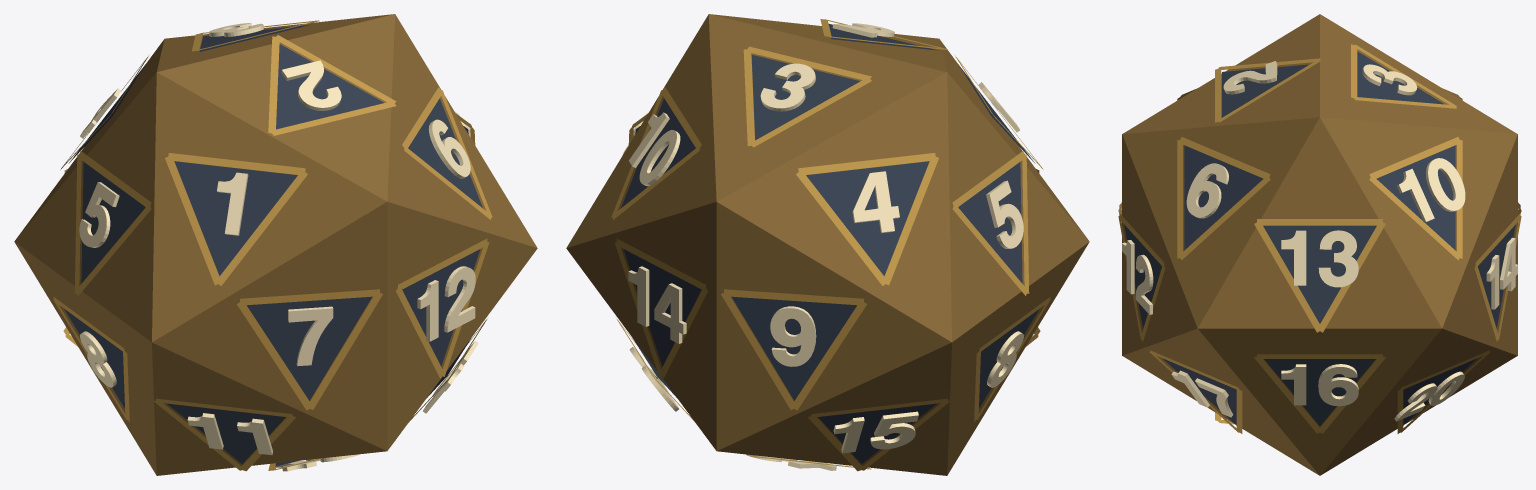
3 views of the same model, side by side, from view 1: azimuth 30°, elevation 25°; view 2: azimuth 150°, elevation 25°; view 3: azimuth 270°, elevation 25° (orthographic). The views are drawn at different scales.
Parts seen in each view (by area): view 1: stone-d20_body, inset_face_panel (×9), face_frame (×15), face_12_beveled_number, face_2_beveled_number, face_5_beveled_number, face_11_beveled_number, face_7_beveled_number, face_6_beveled_number, face_1_beveled_number, face_8_beveled_number, face_17_beveled_number (+1 smaller); view 2: stone-d20_body, inset_face_panel (×9), face_frame (×16), face_14_beveled_number, face_9_beveled_number, face_15_beveled_number, face_10_beveled_number, face_4_beveled_number, face_3_beveled_number, face_5_beveled_number, face_8_beveled_number, face_2_beveled_number (+1 smaller); view 3: stone-d20_body, inset_face_panel (×10), face_frame (×12), face_13_beveled_number, face_10_beveled_number, face_16_beveled_number, face_6_beveled_number, face_20_beveled_number, face_12_beveled_number, face_14_beveled_number, face_17_beveled_number, face_3_beveled_number (+1 smaller).
Part boxes in pixels (x1,y1,x2,y2): stone-d20_body: [14, 14, 537, 475]; inset_face_panel (×9): [64, 25, 482, 463]; face_frame (×15): [74, 35, 487, 417]; face_12_beveled_number: [417, 266, 475, 341]; face_2_beveled_number: [281, 60, 341, 110]; face_5_beveled_number: [79, 182, 119, 247]; face_11_beveled_number: [187, 413, 273, 455]; face_7_beveled_number: [288, 306, 333, 366]; face_6_beveled_number: [428, 119, 470, 178]; face_1_beveled_number: [217, 172, 248, 235]; face_8_beveled_number: [80, 331, 116, 387]; face_17_beveled_number: [423, 340, 478, 413]; stone-d20_body: [566, 14, 1089, 475]; inset_face_panel (×9): [621, 24, 1039, 463]; face_frame (×16): [614, 46, 1029, 417]; face_14_beveled_number: [628, 266, 686, 343]; face_9_beveled_number: [770, 306, 816, 366]; face_15_beveled_number: [833, 411, 918, 453]; face_10_beveled_number: [629, 112, 680, 186]; face_4_beveled_number: [852, 171, 899, 233]; face_3_beveled_number: [760, 63, 815, 111]; face_5_beveled_number: [986, 180, 1023, 248]; face_8_beveled_number: [987, 331, 1023, 387]; face_2_beveled_number: [832, 23, 894, 37]; stone-d20_body: [1122, 14, 1517, 475]; inset_face_panel (×10): [1124, 51, 1515, 425]; face_frame (×12): [1177, 137, 1462, 433]; face_13_beveled_number: [1281, 230, 1358, 287]; face_10_beveled_number: [1396, 158, 1465, 222]; face_16_beveled_number: [1281, 364, 1358, 406]; face_6_beveled_number: [1186, 163, 1228, 218]; face_20_beveled_number: [1394, 371, 1464, 421]; face_12_beveled_number: [1122, 240, 1153, 314]; face_14_beveled_number: [1486, 237, 1517, 309]; face_17_beveled_number: [1171, 370, 1233, 417]; face_3_beveled_number: [1362, 64, 1417, 95].
Size of the model in its own units: 1.27 by 1.27 by 1.25.
